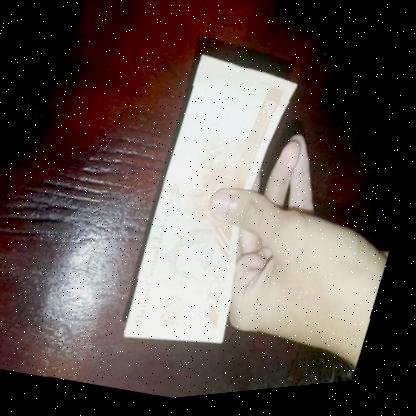twenty-back-vef: (119, 50, 304, 365)
